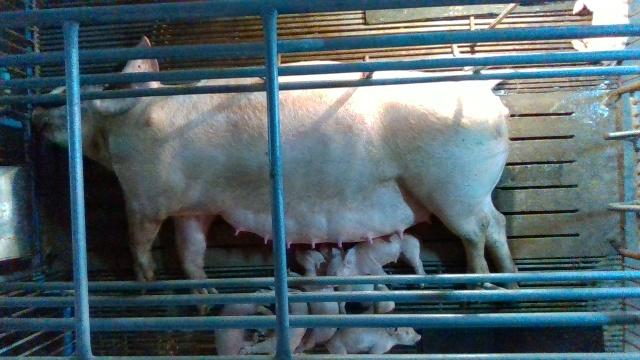piglet: (289, 248, 339, 355), (327, 235, 428, 287), (241, 287, 310, 353), (572, 0, 629, 61), (215, 303, 273, 356), (325, 327, 420, 354)
sow-sleep-lactate: (34, 35, 525, 316)
